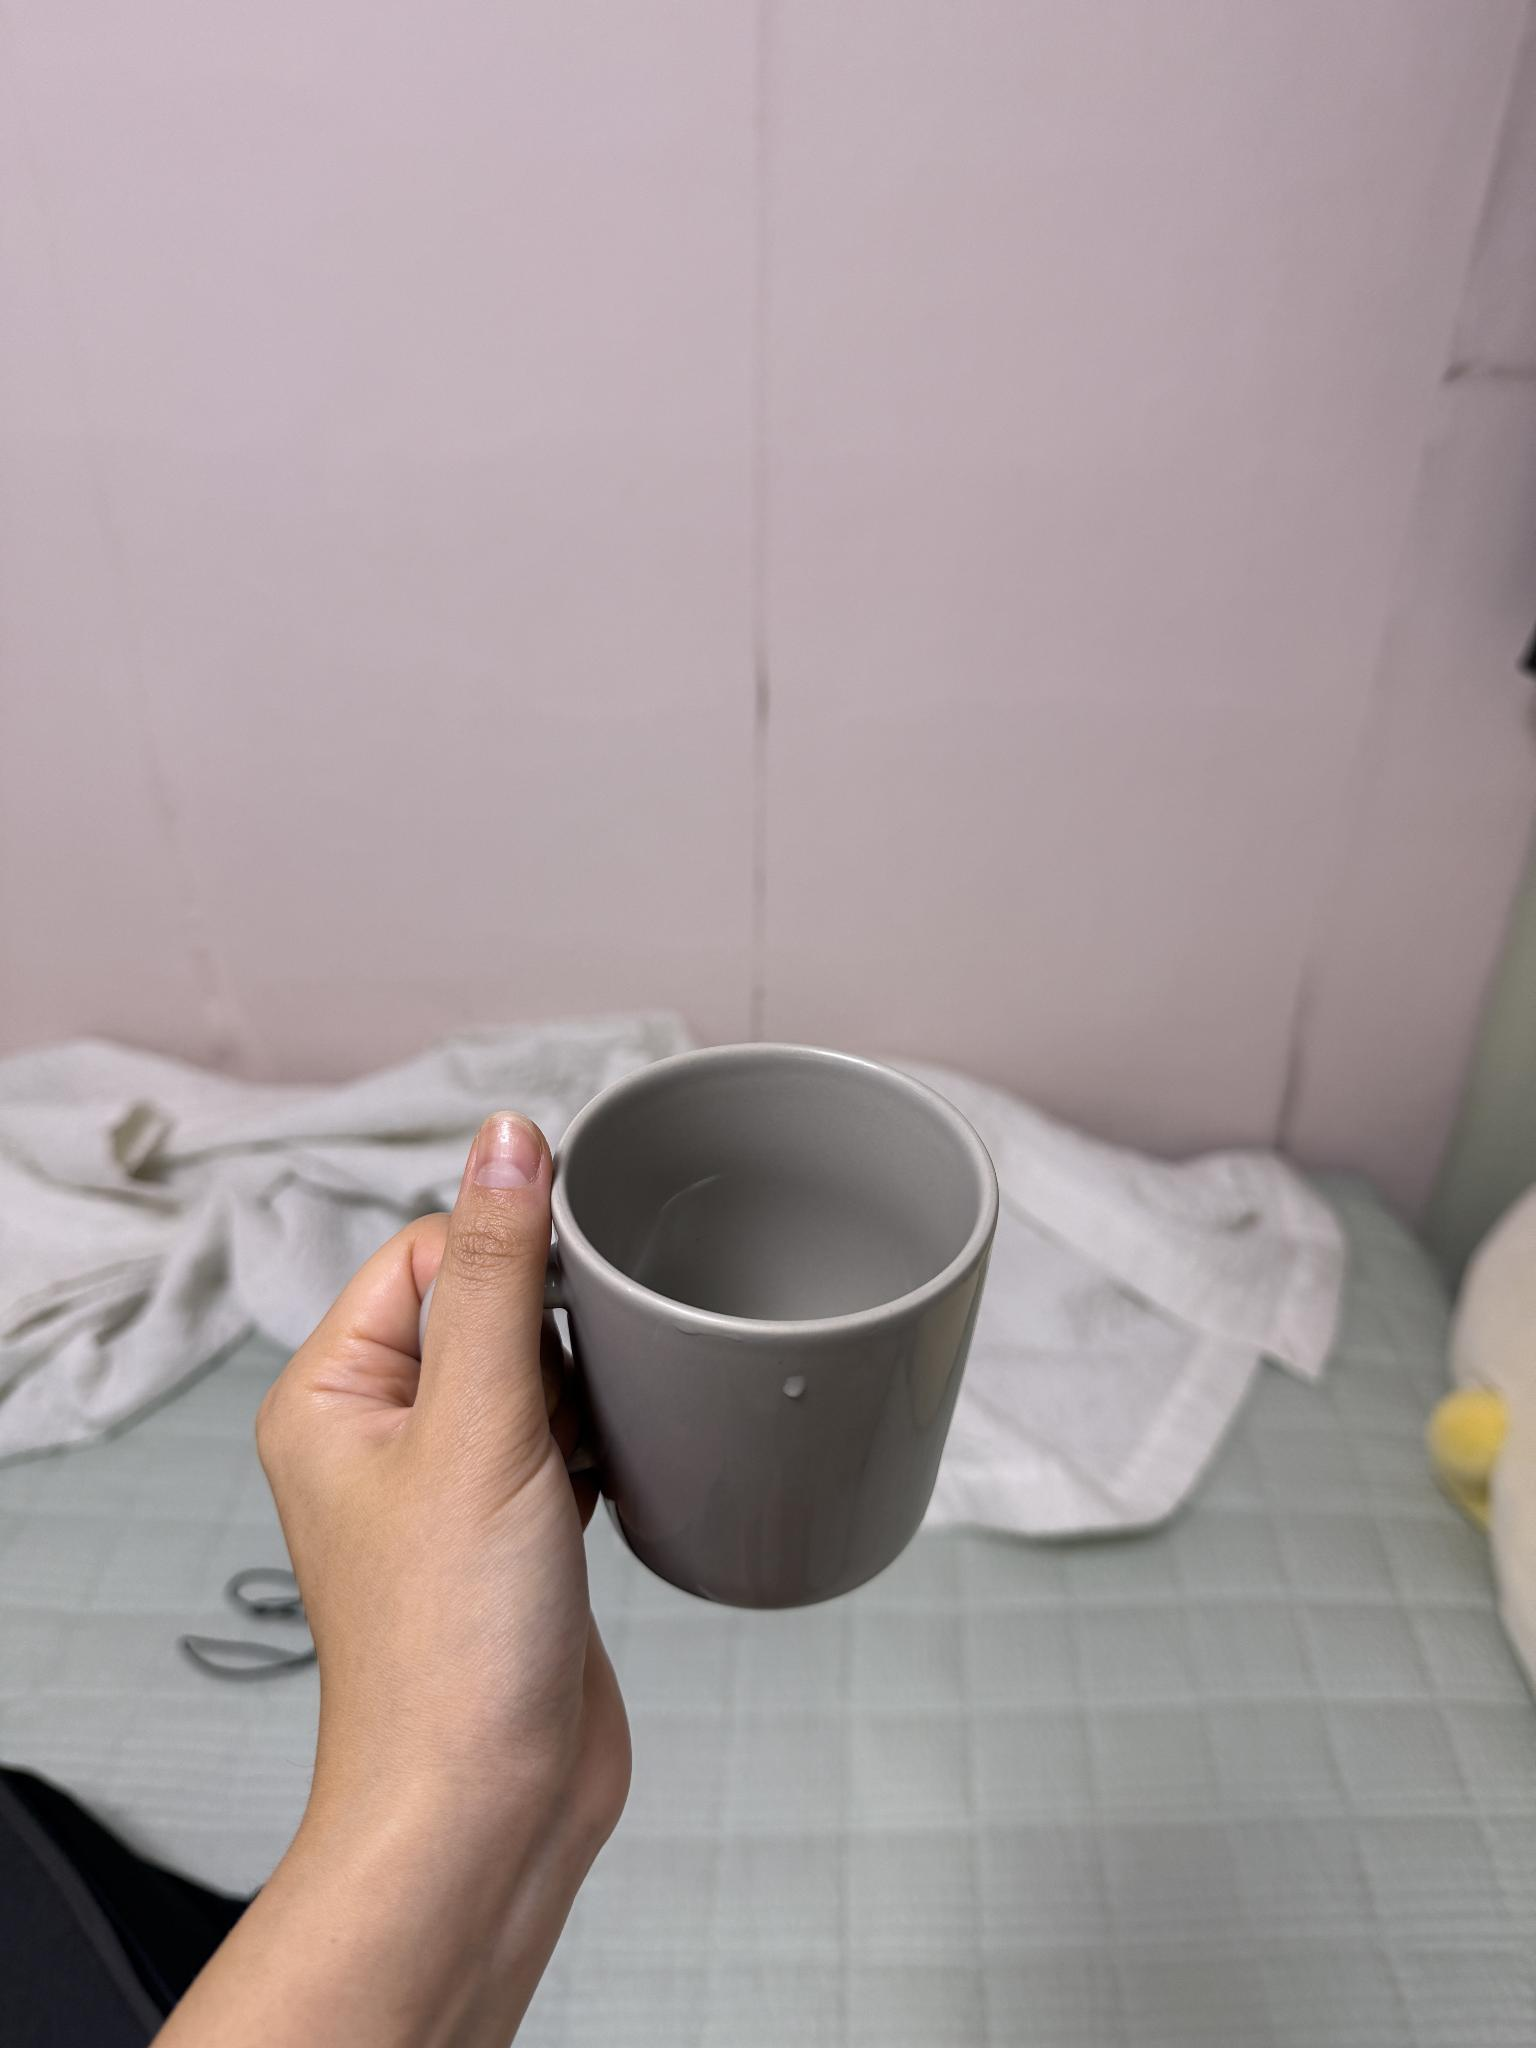cup: (247, 1030, 1012, 1901)
